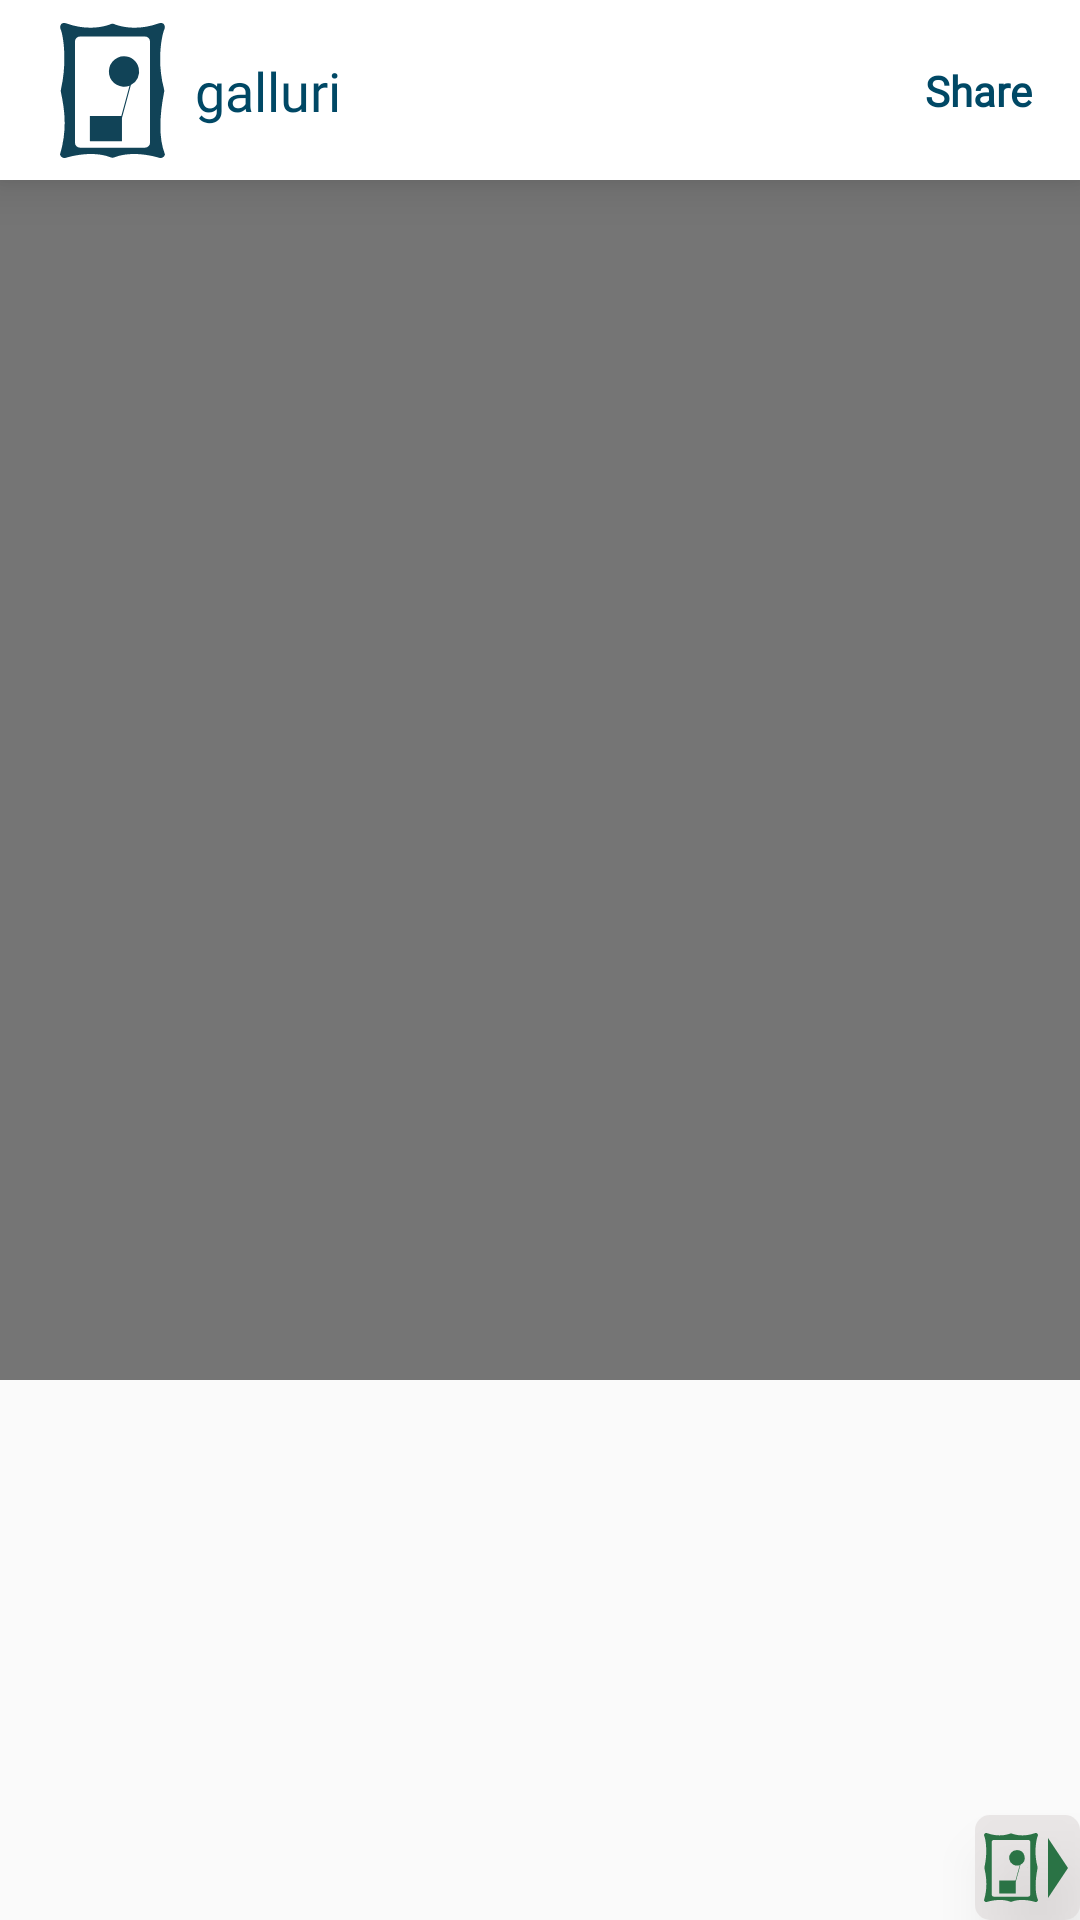

Named icons in this screenshot (1080 x 1920) and their centers, (x=x, y=y):
right arrow: (x=1057, y=1868)
